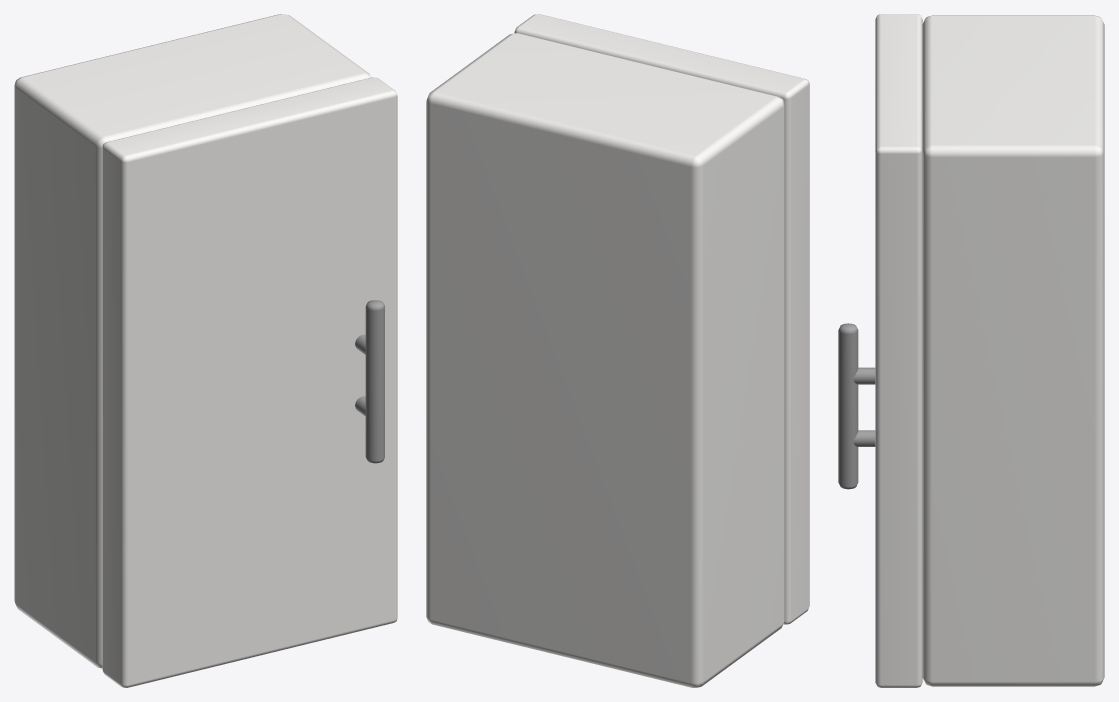
The model's file is Refrigerator.glb.
3 views of the same model, side by side, from view 1: azimuth 30°, elevation 25°; view 2: azimuth 150°, elevation 25°; view 3: azimuth 270°, elevation 25° (orthographic).
Parts seen in each view (by area): view 1: Fridge_2; view 2: Fridge_2; view 3: Fridge_2.
Boxes of the visible parts, x1=… form: Fridge_2: x1=14, y1=14, x2=397, y2=687; Fridge_2: x1=426, y1=14, x2=809, y2=687; Fridge_2: x1=838, y1=14, x2=1104, y2=687.
Size of the model in its own units: 1.14 by 2.1 by 0.9346.
1 material, 1 textured.
